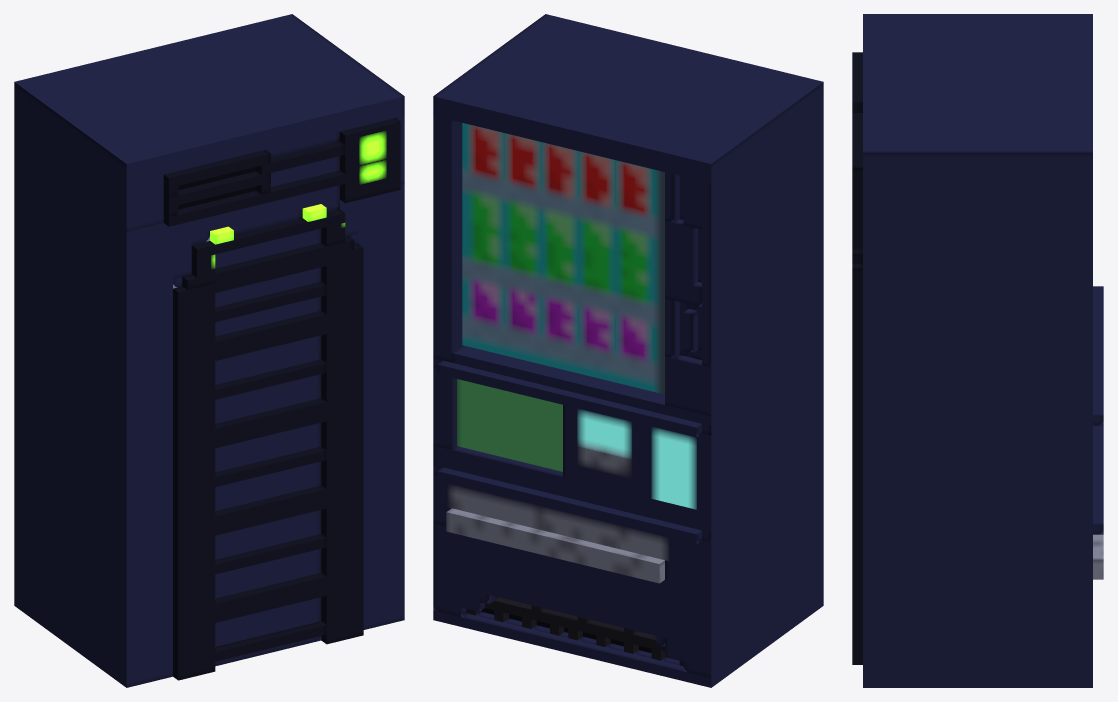
Rendered from maszyna_z_przekonskami.dae.
3 views of the same model, side by side, from view 1: azimuth 30°, elevation 25°; view 2: azimuth 150°, elevation 25°; view 3: azimuth 270°, elevation 25° (orthographic). The views are drawn at different scales.
Visible parts, largest first — view 1: Content; view 2: Content; view 3: Content.
Boxes of the visible parts, x1=… form: Content: x1=14, y1=14, x2=404, y2=687; Content: x1=433, y1=14, x2=823, y2=687; Content: x1=852, y1=14, x2=1103, y2=687.
Bounding box in the file's own units: 30 × 54 × 23.
Materials: 1 (1 with a texture image).
